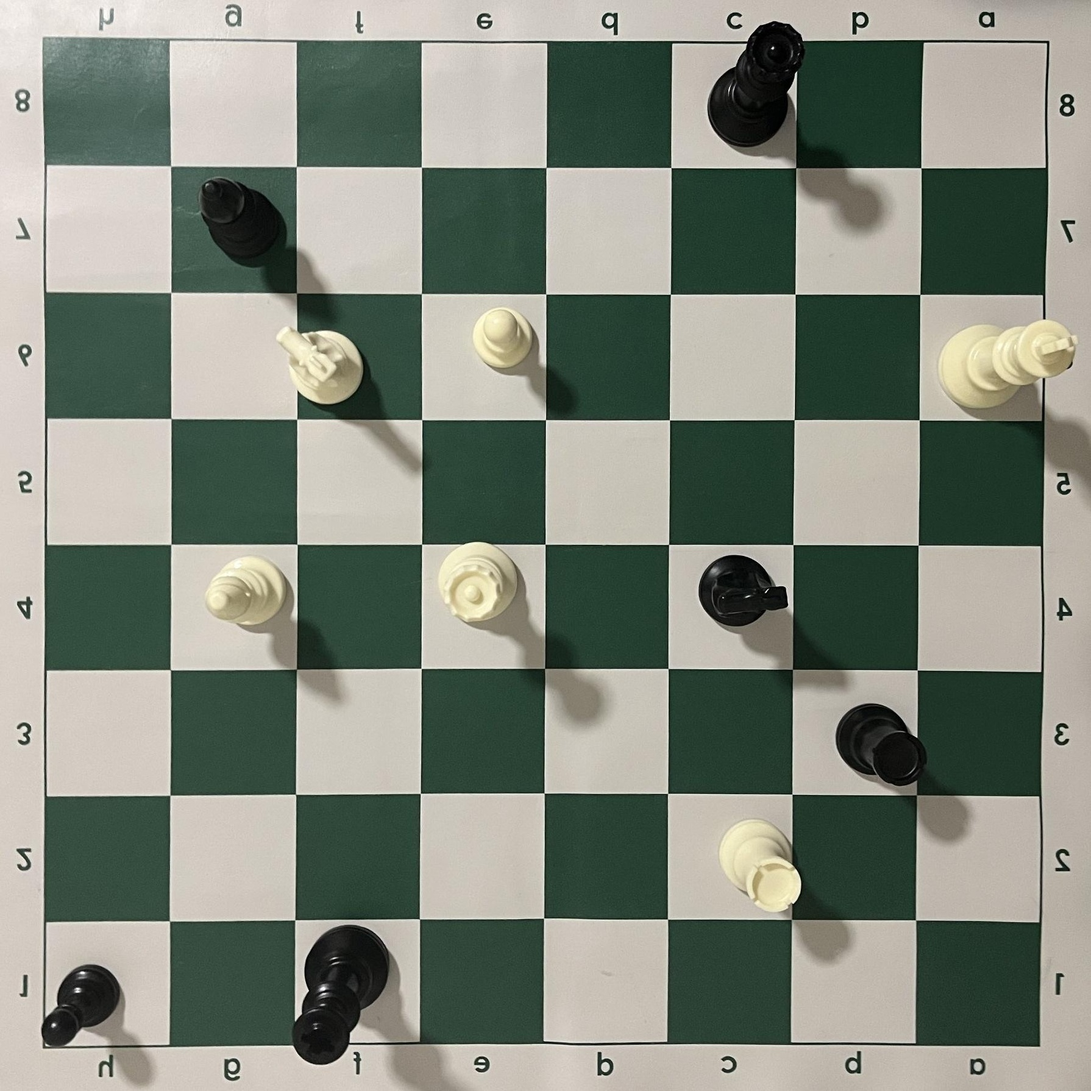black_bishop: (198, 177, 285, 267)
black_king: (291, 924, 390, 1066)
black_knight: (698, 554, 788, 628)
black_pawn: (41, 964, 121, 1049)
black_queen: (706, 20, 805, 149)
black_rook: (836, 703, 928, 787)
white_bishop: (204, 555, 287, 627)
white_king: (937, 318, 1078, 409)
white_knight: (274, 325, 364, 405)
white_pawn: (472, 307, 533, 370)
white_queen: (437, 541, 517, 624)
white_rook: (717, 819, 803, 914)
